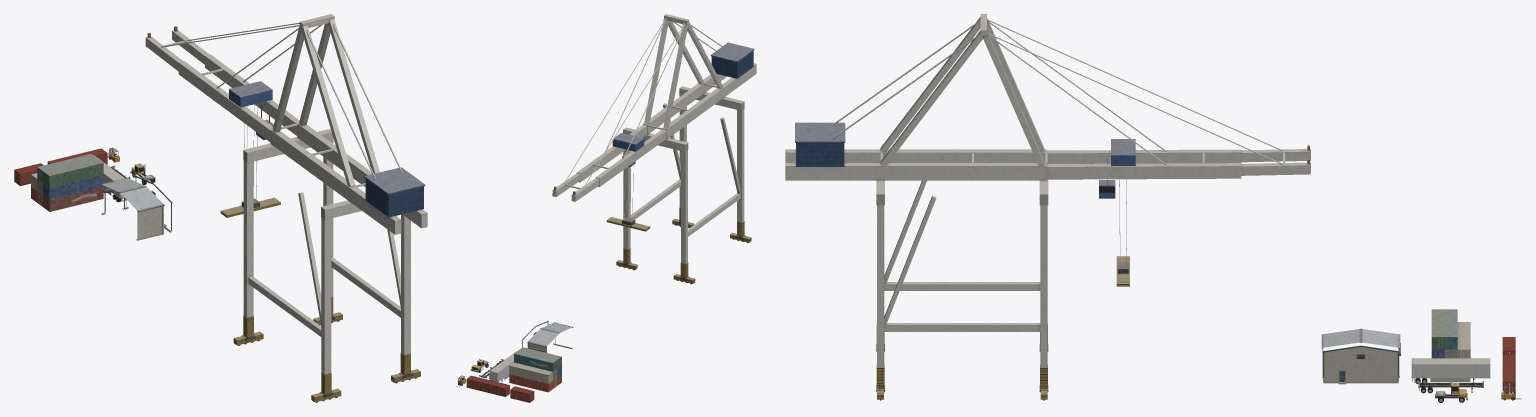
Rendered from set_port.glb.
3 renders of one model, left to right at view 1: azimuth 30°, elevation 25°; view 2: azimuth 150°, elevation 25°; view 3: azimuth 270°, elevation 25°, orthographic. The views are drawn at different scales.
Visible parts, largest first — view 1: quay_crane_lod0, container_stack_lod0, steel_shed_lod0, box_trailer_lod0, container_20_lod0; view 2: quay_crane_lod0, container_stack_lod0, steel_shed_lod0, container_40_lod0, box_trailer_lod0, container_20_lod0; view 3: quay_crane_lod0, steel_shed_end_lod0, box_trailer_lod0, container_stack_lod0, steel_shed_lod0.
Part boxes in pixels (x1,y1,x2,y2): quay_crane_lod0: (145, 14, 427, 402); container_stack_lod0: (31, 154, 103, 211); steel_shed_lod0: (100, 178, 164, 240); box_trailer_lod0: (93, 155, 126, 201); container_20_lod0: (14, 163, 43, 185); quay_crane_lod0: (552, 14, 756, 284); container_stack_lod0: (509, 347, 561, 392); steel_shed_lod0: (527, 322, 573, 352); container_40_lod0: (466, 375, 509, 396); box_trailer_lod0: (489, 351, 516, 382); container_20_lod0: (510, 386, 534, 402); quay_crane_lod0: (785, 14, 1310, 400); steel_shed_end_lod0: (1322, 345, 1399, 384); box_trailer_lod0: (1411, 358, 1490, 383); container_stack_lod0: (1431, 309, 1470, 358); steel_shed_lod0: (1321, 328, 1400, 378).
Size of what is drawn, in the model's own units: 24.68 by 72.6 by 137.
Materials: 3 (3 with a texture image).
